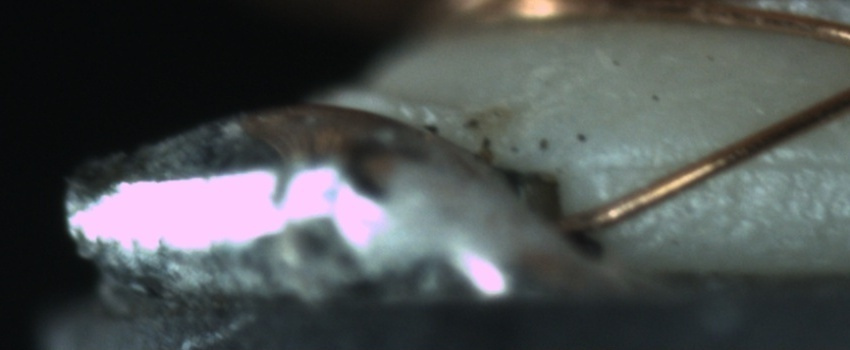DL: (615, 138, 849, 190)
